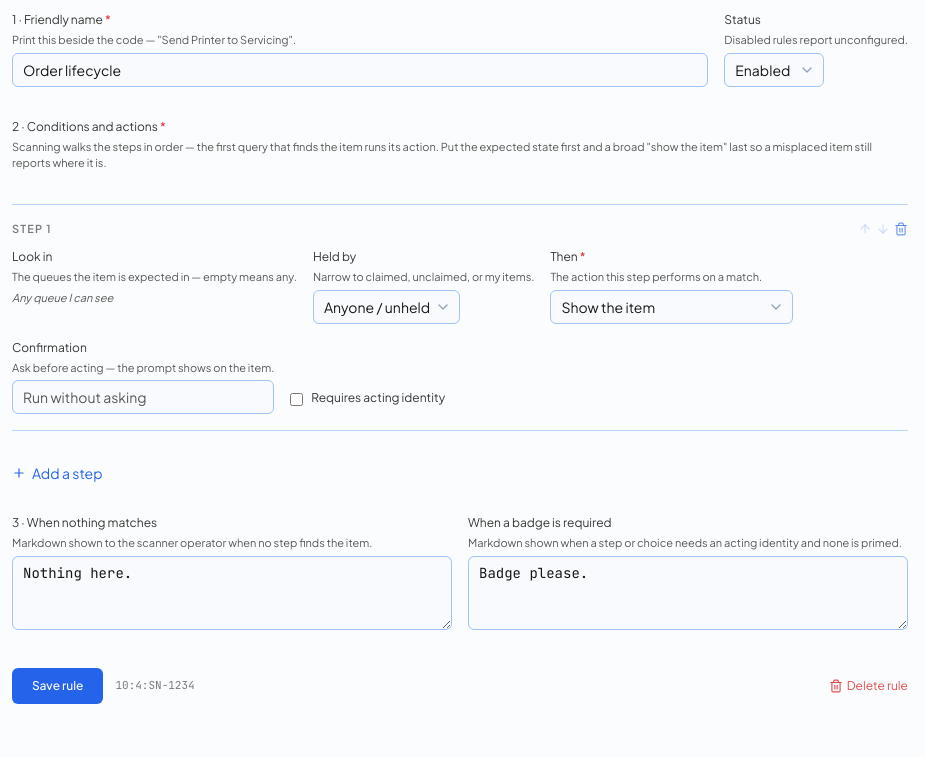
Scenario: ScanRuleEditor › selecting the present verb reveals the choice editor
expect the text "Add a choice" is not shown: met
Select "Show reality + choices" in the dropdown labelled "Then * The action this step performs on a match." at (672, 306), box [550,290,793,324]
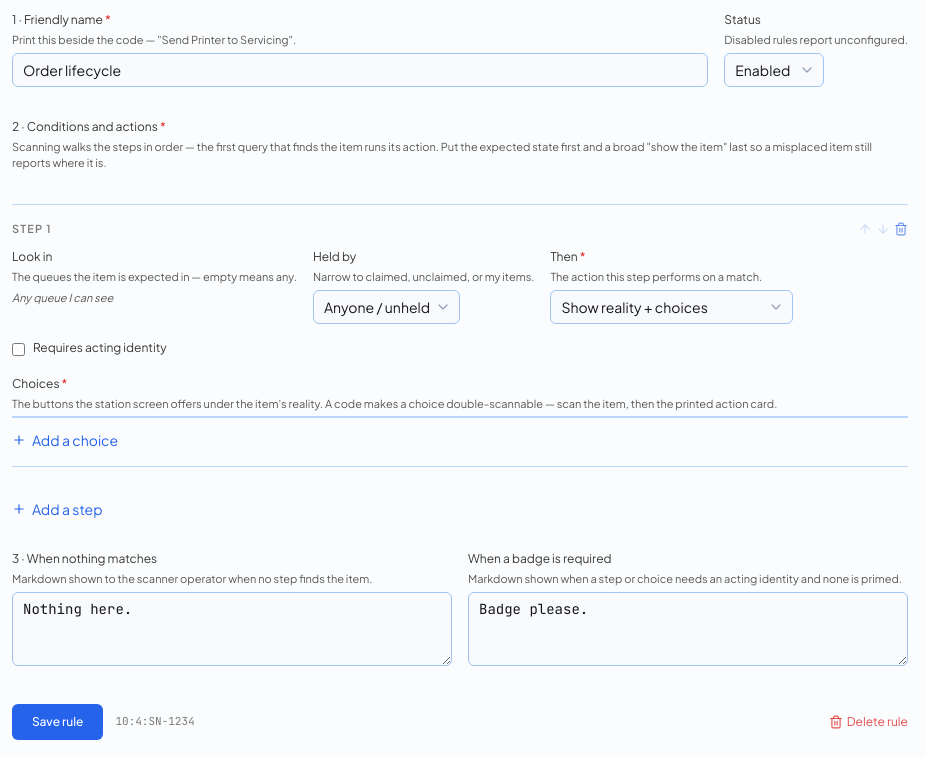
expect the button "Add a choice" is shown: met, box [12,422,118,450]
